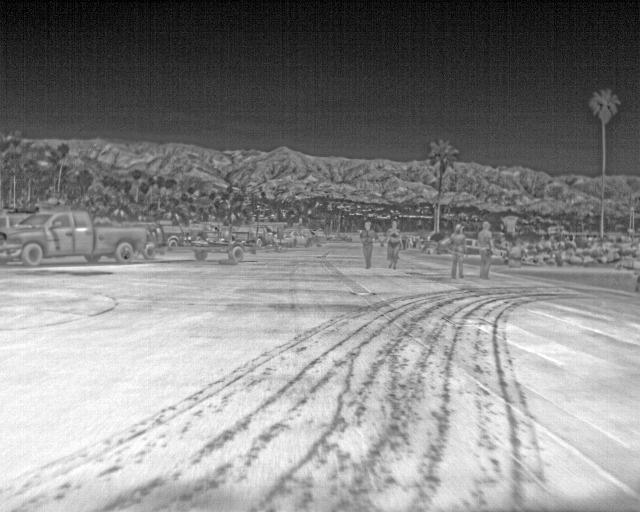bicycle: (0, 210, 148, 268)
empty: (445, 222, 469, 280), (474, 220, 497, 279), (358, 219, 376, 269), (385, 219, 403, 269)
